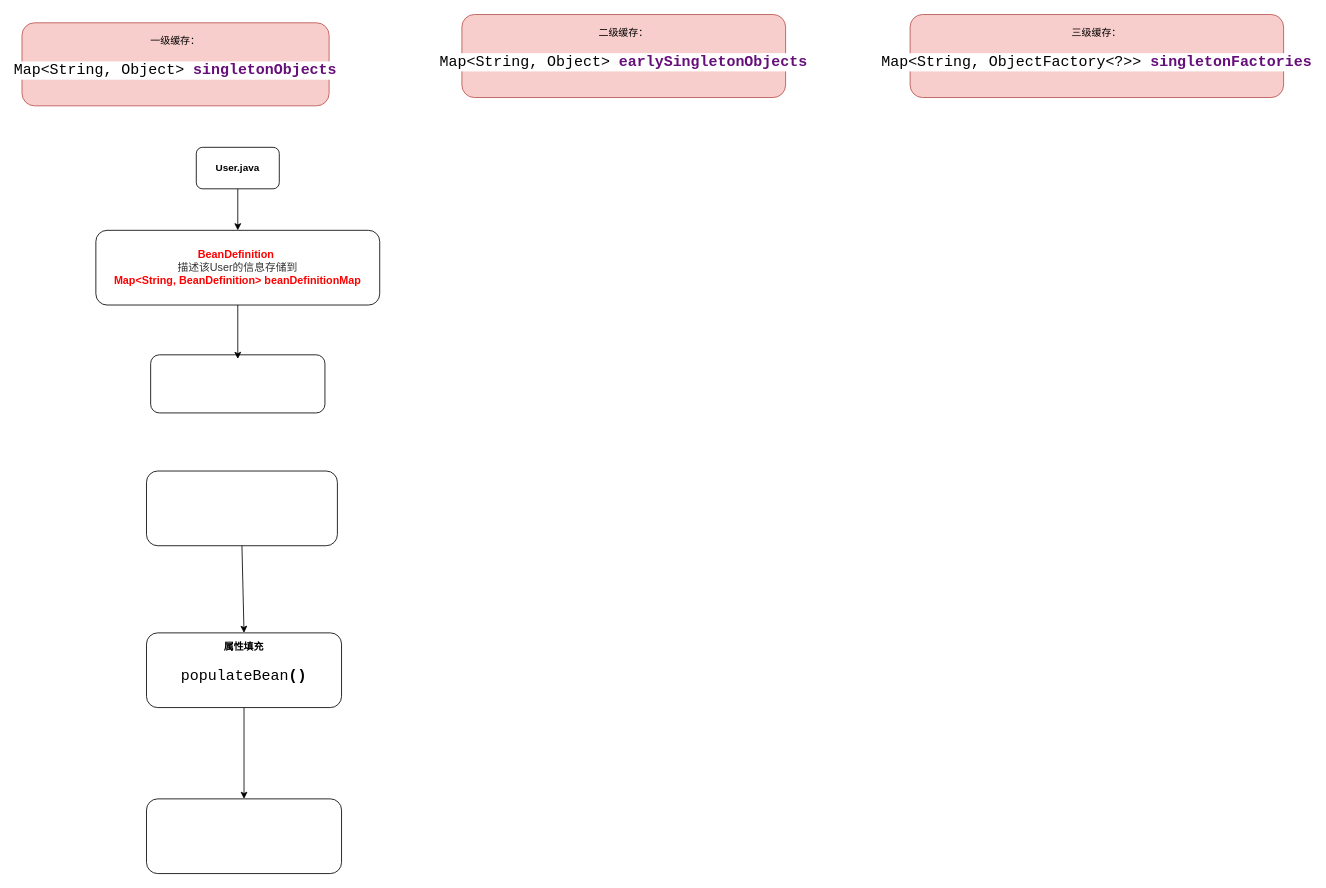
This 1326x888 diagram has some shape labels left out. The centre of each missing label's shape, as x and y in pixels:
BeanFactoryPostProcessor 执行扩展Bean的父接口: the point at 237,383
初始化Bean initializeBean (): the point at 244,836
实例化Bean createBeanInstance(): the point at 241,508
